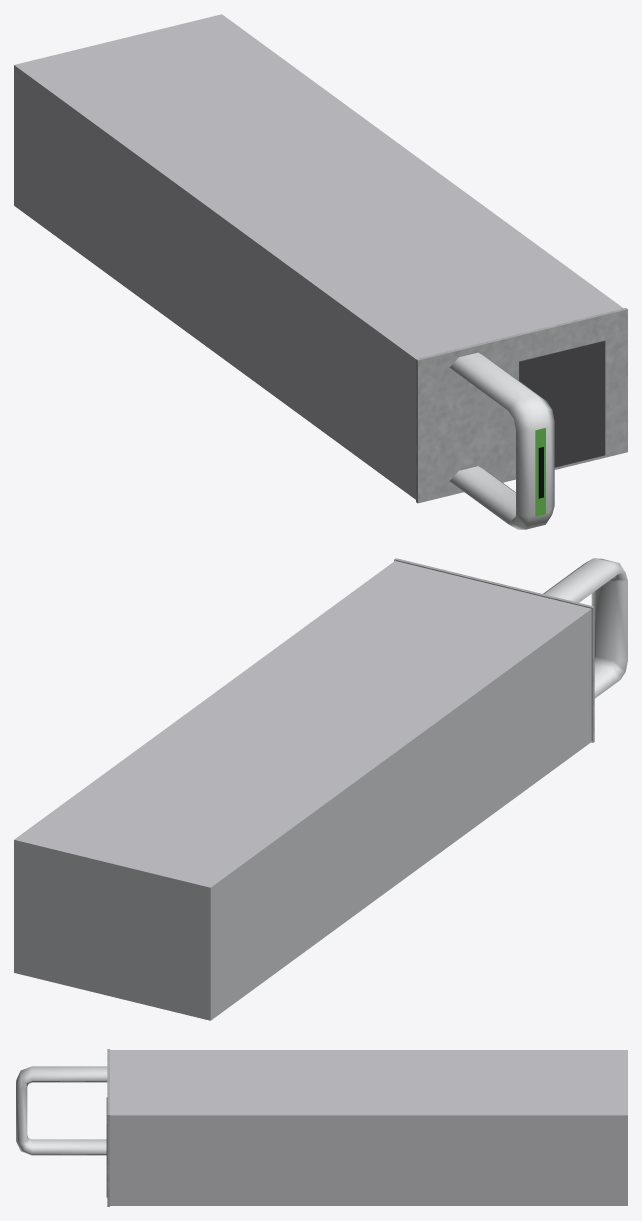
File: DELL-PSU-60MM-1400W.far.glb
The picture shows the model from 3 angles, top to bottom: view 1: azimuth 30°, elevation 25°; view 2: azimuth 150°, elevation 25°; view 3: azimuth 270°, elevation 25°; orthographic projection. The views are drawn at different scales.
Visible parts, largest first — view 1: PSU_Handle_far; view 2: PSU_Handle_far; view 3: PSU_Handle_far.
Boxes of the visible parts, <box> form: PSU_Handle_far: <box>14,14,627,529</box>; PSU_Handle_far: <box>14,558,627,1020</box>; PSU_Handle_far: <box>16,1049,627,1206</box>.
Bounding box in the file's own units: 0.06 × 0.039 × 0.2362.
Materials: 3 (2 with a texture image).
